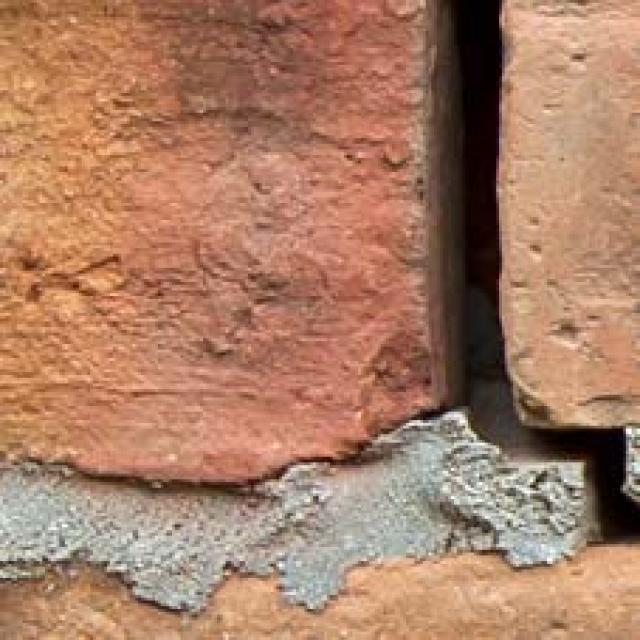Crack: (385, 0, 640, 640)
